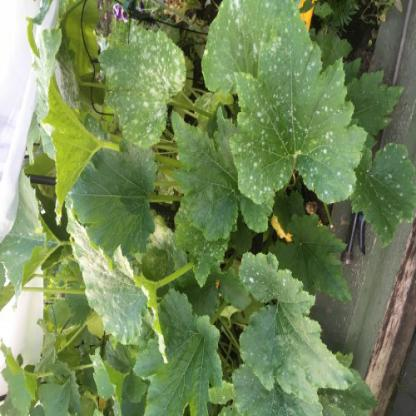squash powdery mildew leaf: (228, 9, 364, 209), (230, 248, 353, 398), (97, 34, 186, 143)
